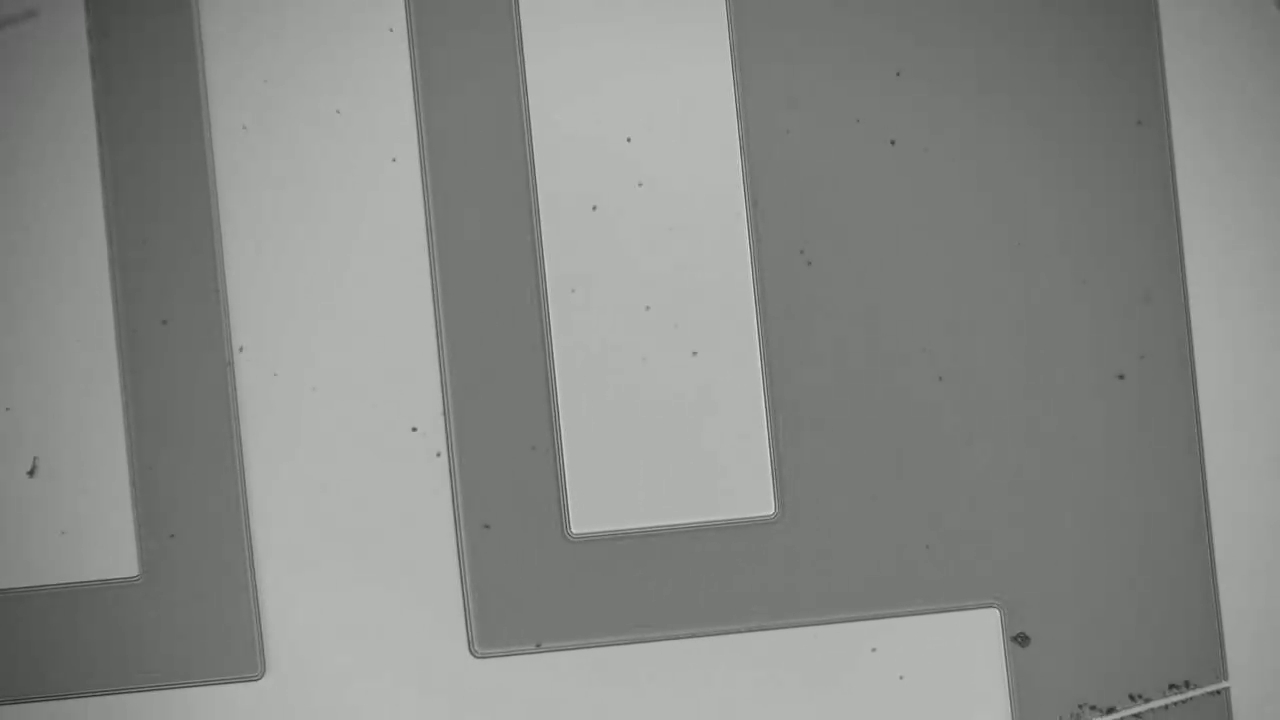scratch: (1096, 684, 1222, 720)
